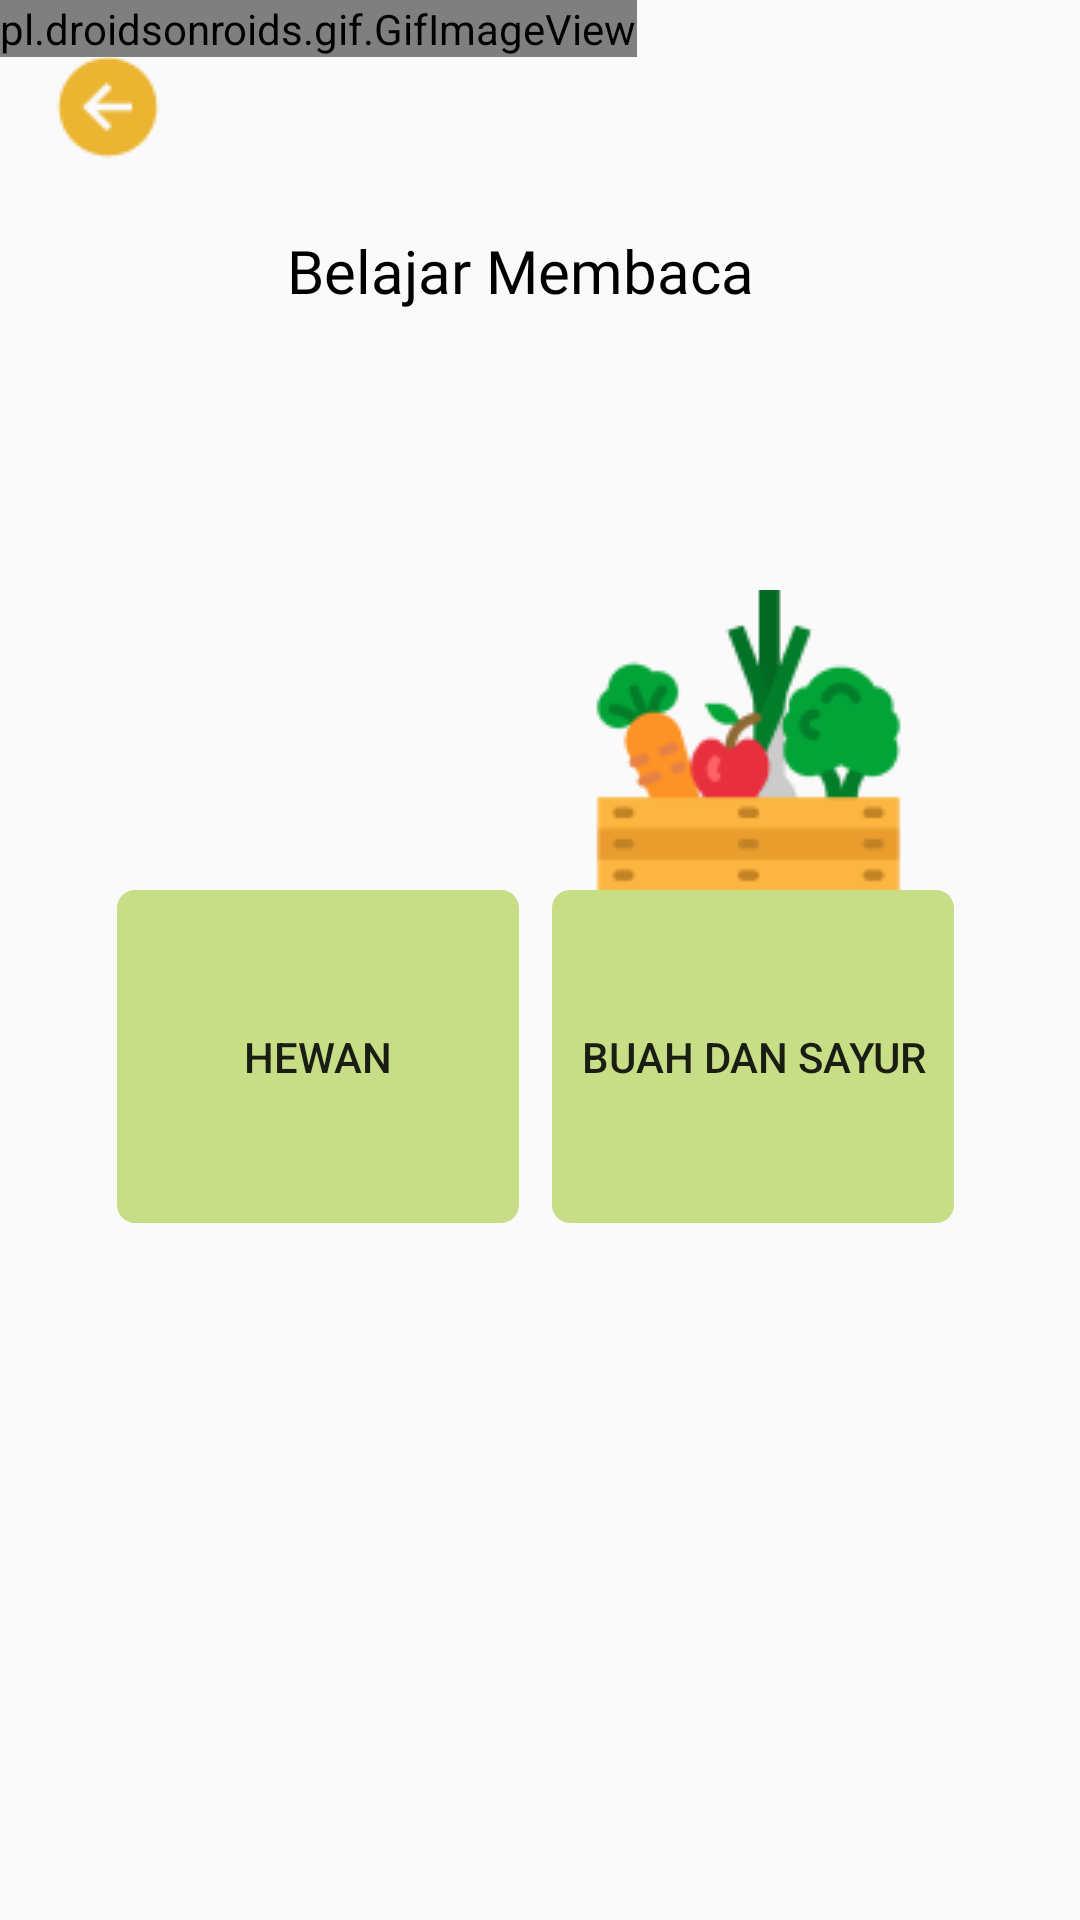

Locate icon controls on the screen. Image size 1080 x 1920, boxes as box=[x1, y1, x2, y2].
keluar: box=[48, 47, 168, 158]
